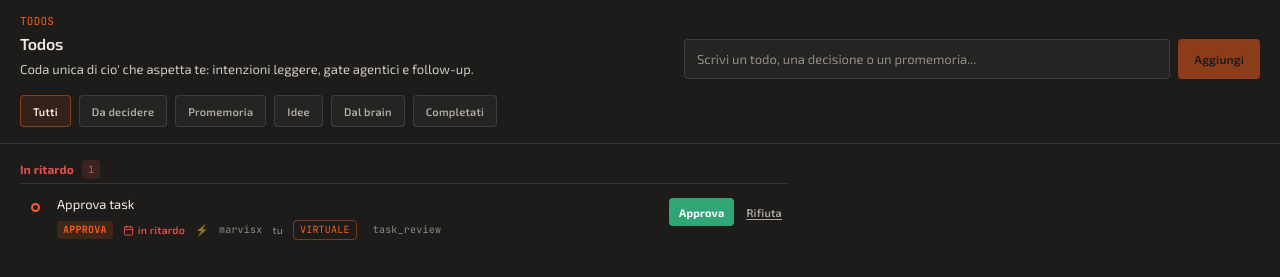
TodosSurface › renders virtual item action feedback for operator-session failures
Click the button "Approva" at (702, 212), box [669,198,734,226]
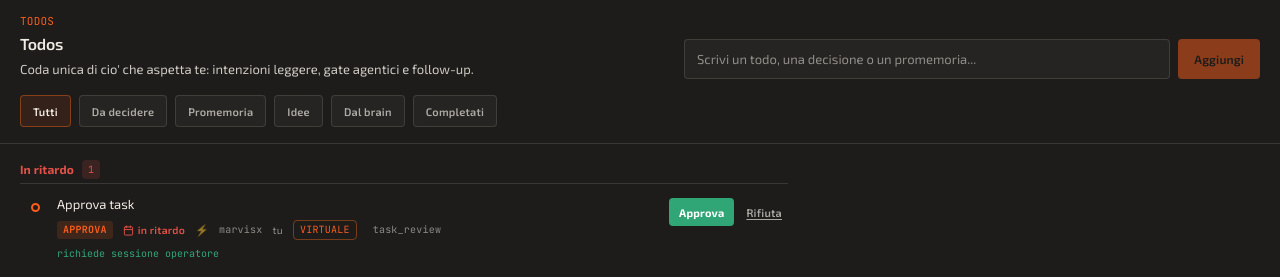
Check: the text "richiede sessione operatore" is shown, box [57,247,219,260]
